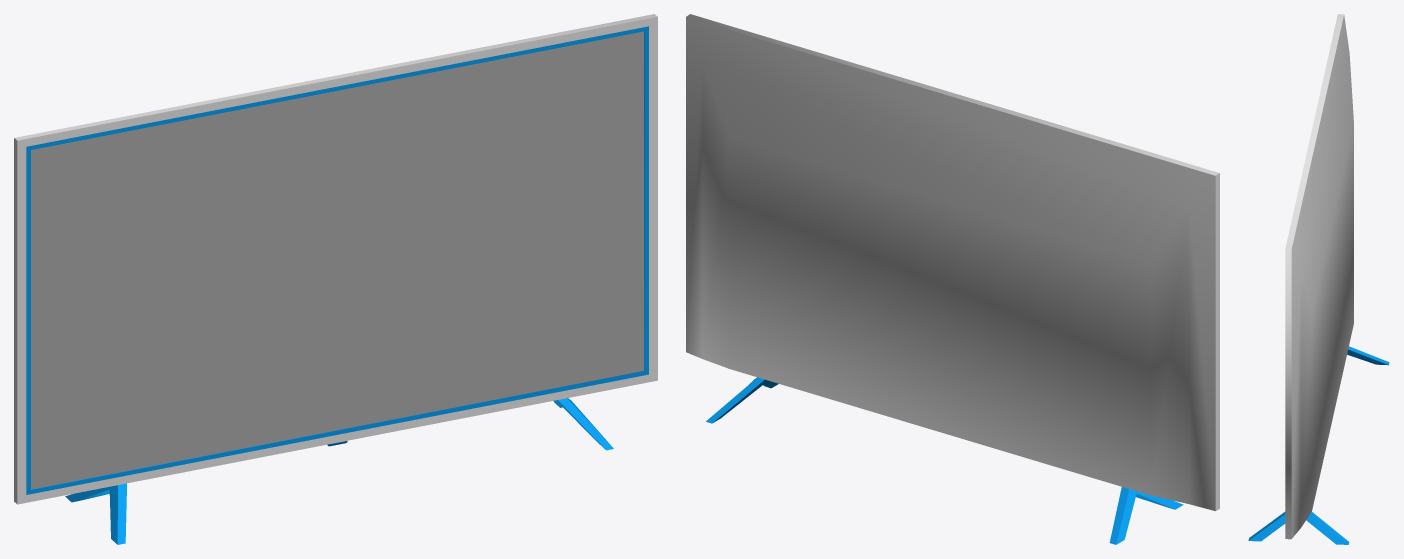
File: SM_SmartTV.fbx
The picture shows the model from 3 angles, left to right: view 1: azimuth 30°, elevation 25°; view 2: azimuth 150°, elevation 25°; view 3: azimuth 270°, elevation 25°; orthographic projection. The views are drawn at different scales.
Visible parts, largest first — view 1: SmartTV_screen, SmartTV_body, SmartTV_details; view 2: SmartTV_body, SmartTV_details; view 3: SmartTV_body, SmartTV_details.
Boxes of the visible parts, x1,y1,x2,y2 form: SmartTV_screen: (31, 31, 643, 489); SmartTV_body: (14, 14, 657, 504); SmartTV_details: (26, 26, 648, 544); SmartTV_body: (686, 14, 1219, 511); SmartTV_details: (706, 377, 1183, 544); SmartTV_body: (1285, 14, 1353, 539); SmartTV_details: (1248, 346, 1389, 544).
Bounding box in the file's own units: 0.5746 × 0.3603 × 0.1452.
